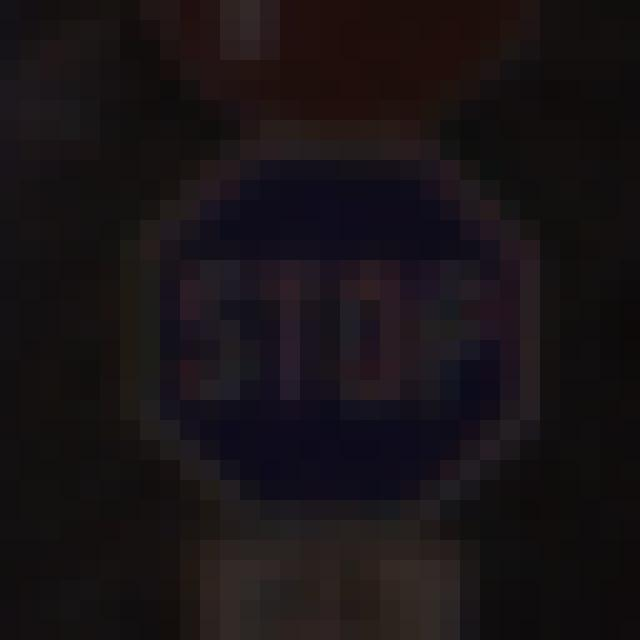STOP: (103, 99, 552, 538)
